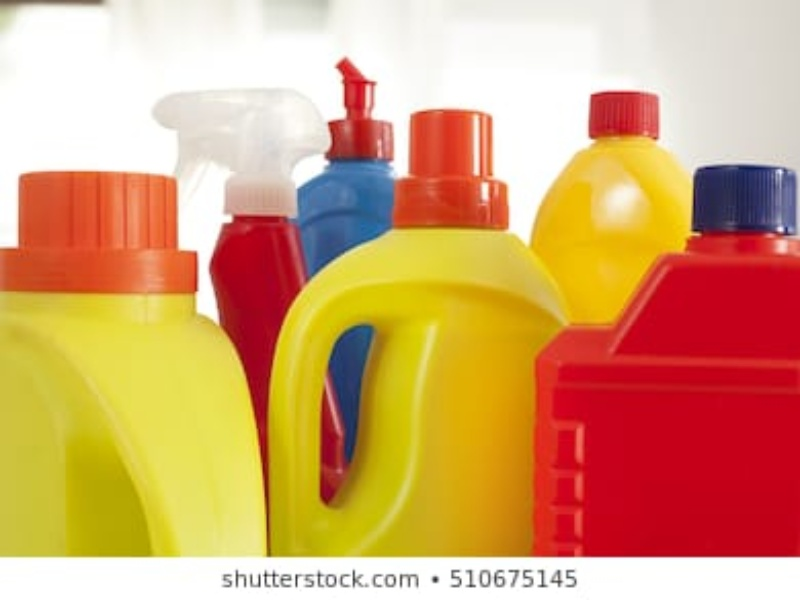bottle-cap: (689, 167, 797, 233), (585, 92, 660, 138)
detergent-bottle: (269, 107, 579, 556), (533, 162, 798, 554), (1, 172, 269, 553), (152, 91, 346, 492), (288, 57, 396, 462), (538, 89, 686, 325)
